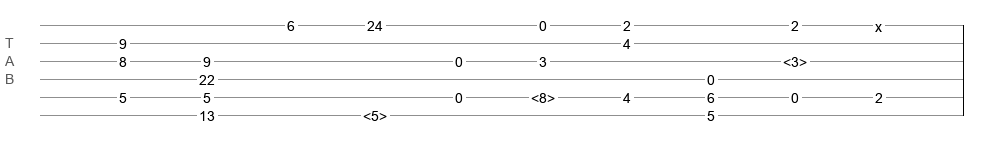0: (455, 54, 463, 64), (455, 90, 463, 100), (539, 18, 547, 28), (707, 72, 715, 82), (791, 90, 799, 100)
13: (199, 108, 215, 118)
2: (623, 18, 631, 28), (791, 18, 799, 28), (875, 90, 883, 100)
22: (199, 72, 215, 82)
24: (367, 18, 383, 28)
3: (539, 54, 547, 64)
4: (623, 36, 631, 46), (623, 90, 631, 100)
5: (119, 90, 127, 100), (203, 90, 211, 100), (707, 108, 715, 118)
6: (287, 18, 295, 28), (707, 90, 715, 100)
8: (119, 54, 127, 64)
9: (119, 36, 127, 46), (203, 54, 211, 64)
harmonic: (363, 108, 387, 118), (531, 90, 555, 100), (783, 54, 807, 64)
x: (875, 19, 882, 27)
